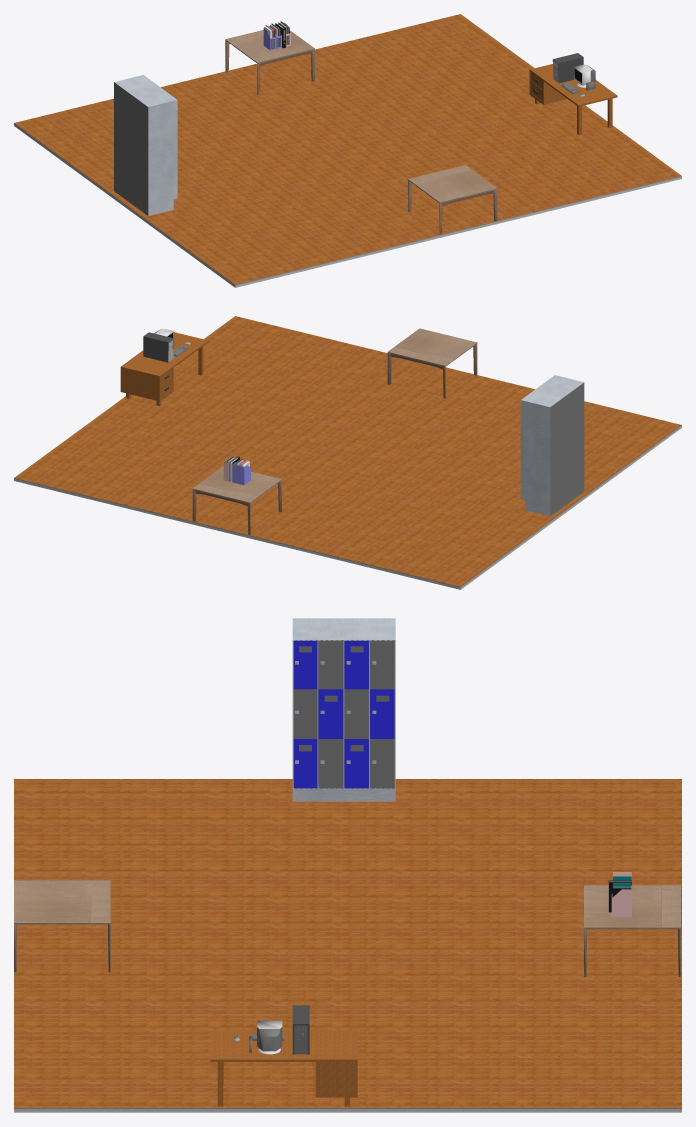
Rendered from stage.gltf.
3 renders of one model, top to bottom at view 1: azimuth 30°, elevation 25°; view 2: azimuth 150°, elevation 25°; view 3: azimuth 270°, elevation 25°, orthographic. The views are drawn at different scales.
Visible parts, largest first — view 1: root, Lockers, ske4B, Component#29 (×2), Box File; view 2: root, Lockers, ske4B, Component#29 (×2), Box File; view 3: root, Lockers, ske4B, Component#29 (×2), Box File.
Boxes of the visible parts, x1,y1,x2,y2 form: root: (14,14,681,287); Lockers: (114,75,177,215); ske4B: (529,53,617,134); Component#29 (×2): (231,30,497,202); Box File: (263,21,290,50); root: (14,316,681,589); Lockers: (520,375,584,516); ske4B: (120,328,208,405); Component#29 (×2): (199,328,477,498); Box File: (223,456,250,485); root: (14,779,681,1112); Lockers: (292,618,395,801); ske4B: (210,1005,357,1106); Component#29 (×2): (14,880,661,929); Box File: (608,872,631,916).
Bounding box in the file's own units: 7.73 × 1.85 × 6.62.
23 materials, 6 textured.
